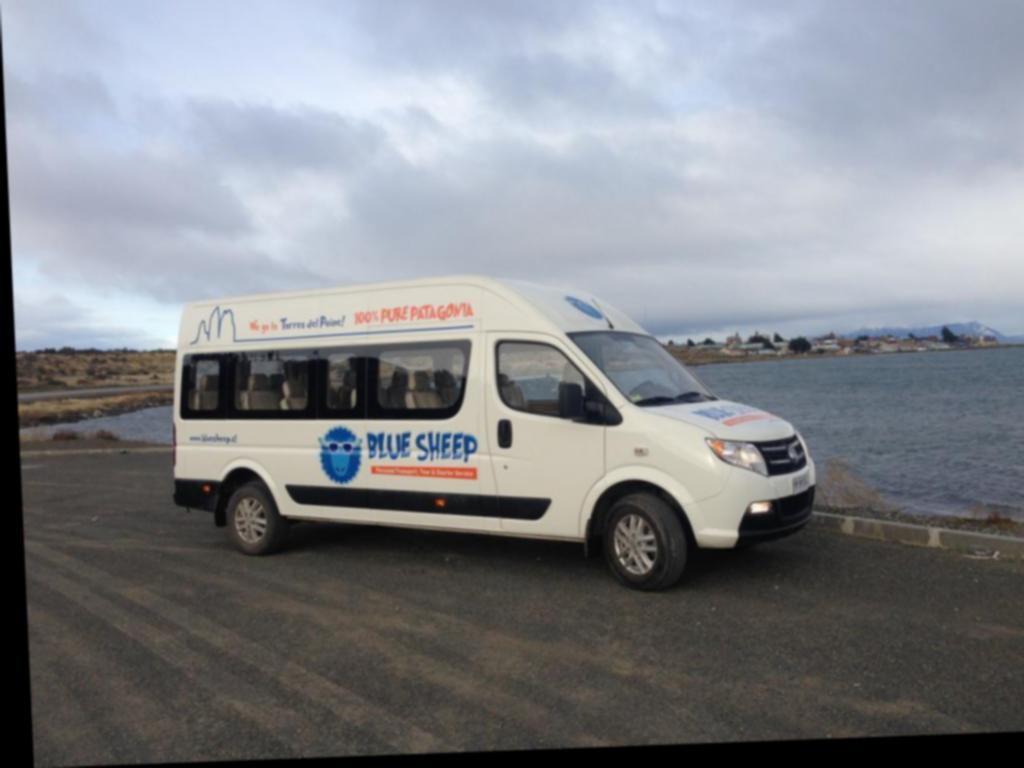License_Plate: (789, 473, 810, 501)
